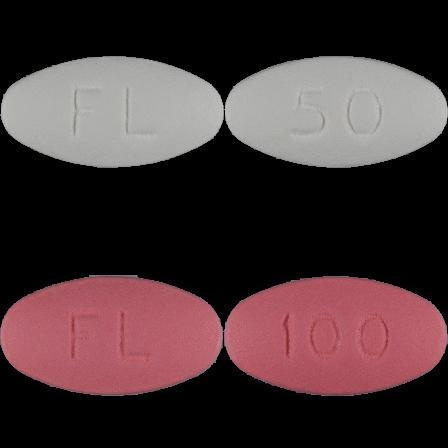16590-846: (0, 0, 224, 224)
